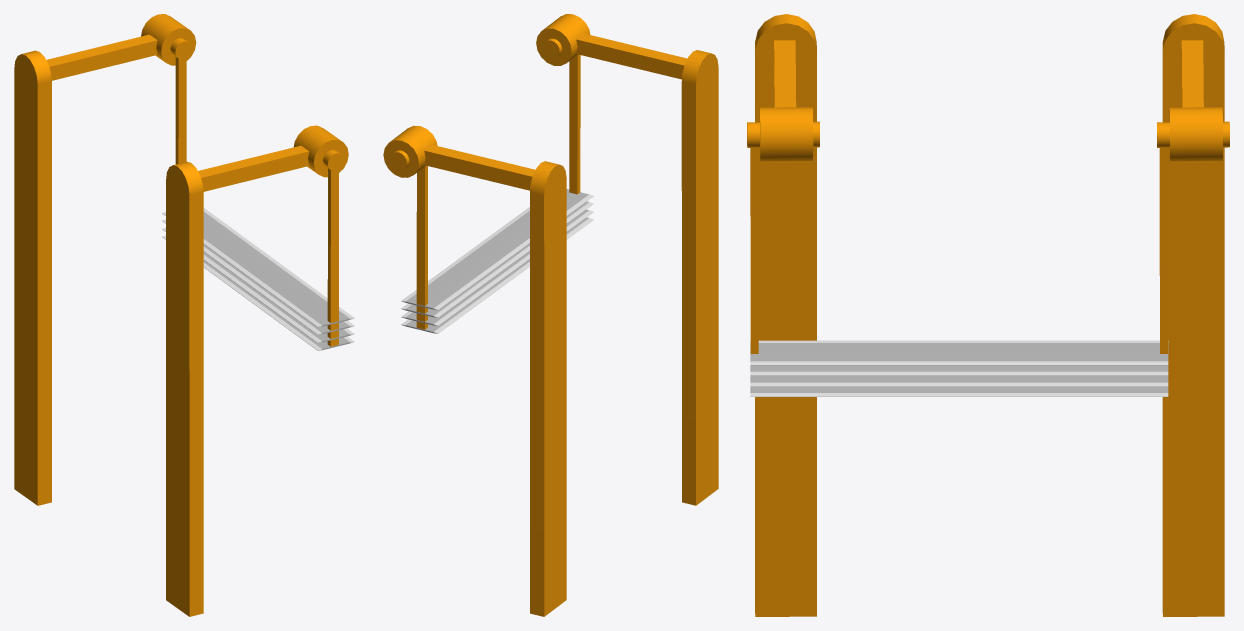
Rendered from trap_13.fbx.
3 renders of one model, left to right at view 1: azimuth 30°, elevation 25°; view 2: azimuth 150°, elevation 25°; view 3: azimuth 270°, elevation 25°, orthographic. The views are drawn at different scales.
Visible parts, largest first — view 1: trap_013, trap_013_rotate; view 2: trap_013, trap_013_rotate; view 3: trap_013, trap_013_rotate.
Boxes of the visible parts, <box> form: trap_013: <box>14,14,348,616</box>; trap_013_rotate: <box>162,57,354,350</box>; trap_013: <box>383,14,718,616</box>; trap_013_rotate: <box>401,54,593,333</box>; trap_013: <box>747,14,1229,616</box>; trap_013_rotate: <box>750,147,1168,396</box>.
Bounding box in the file's own units: 1237 × 3189 × 2352.
1 material, 1 textured.
